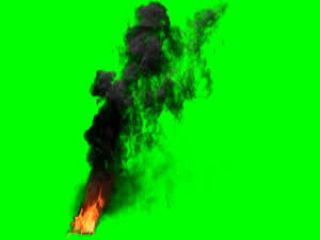fire: (69, 195, 109, 233)
smoke: (85, 5, 215, 201)
